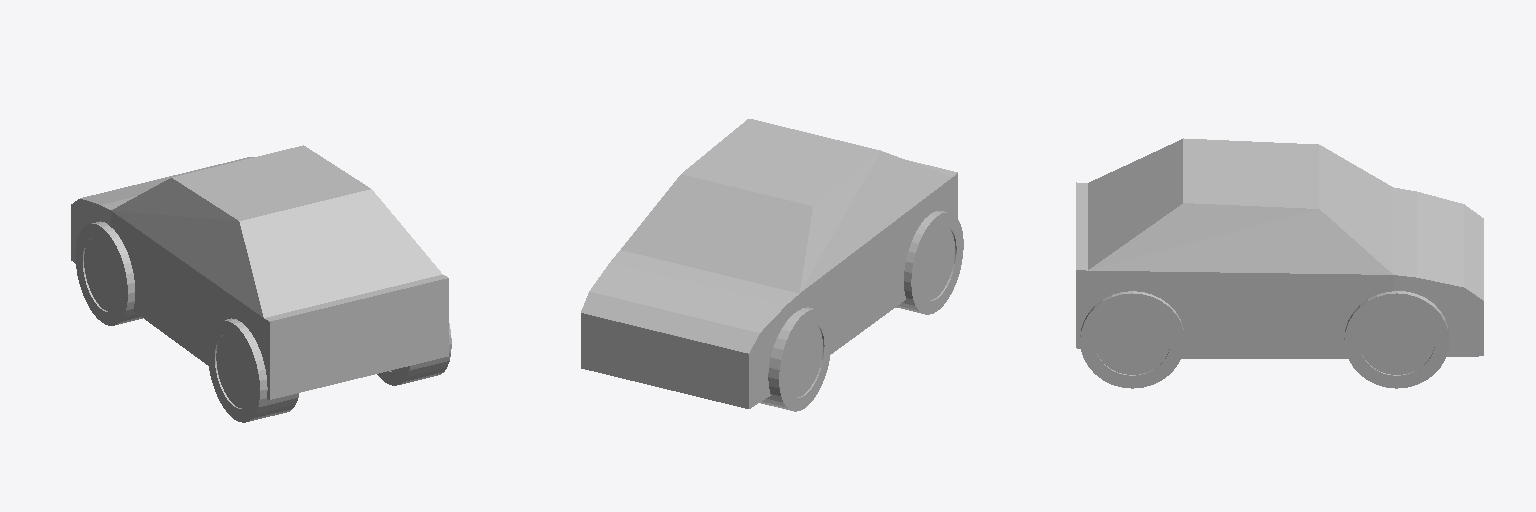
File: neighborhood_car_object.obj
3 views of the same model, side by side, from view 1: azimuth 30°, elevation 25°; view 2: azimuth 150°, elevation 25°; view 3: azimuth 270°, elevation 25° (orthographic).
Visible parts, largest first — view 1: Cube.025; view 2: Cube.025; view 3: Cube.025.
Boxes of the visible parts, box(x1,y1,x2,y2) form: Cube.025: box(71, 145, 451, 422); Cube.025: box(581, 119, 963, 411); Cube.025: box(1076, 138, 1483, 388).
Size of the model in its own units: 0.7982 by 0.6835 by 1.47.